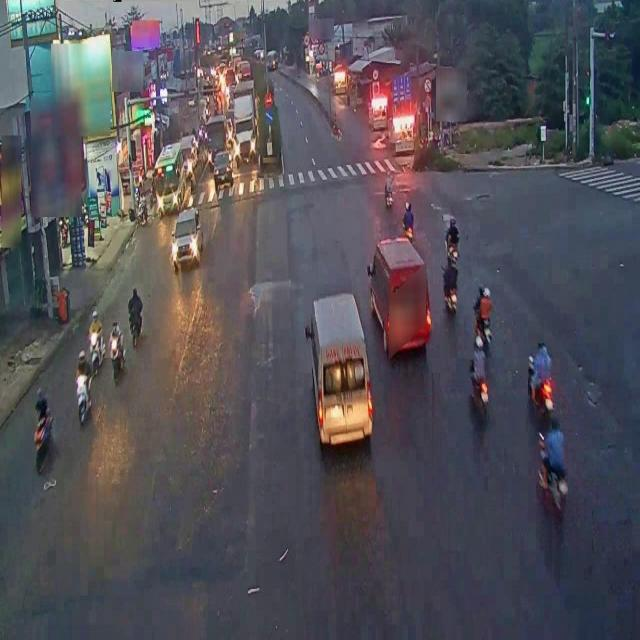car: (173, 206, 200, 261)
motorcycle: (534, 425, 574, 539), (527, 337, 557, 420), (30, 383, 56, 474), (468, 331, 488, 418), (74, 348, 92, 425), (86, 306, 106, 371), (472, 283, 492, 346), (127, 284, 145, 346), (442, 245, 458, 312), (110, 319, 126, 381), (402, 200, 415, 242), (382, 175, 394, 217)
truck: (364, 225, 441, 370), (305, 290, 373, 446)
